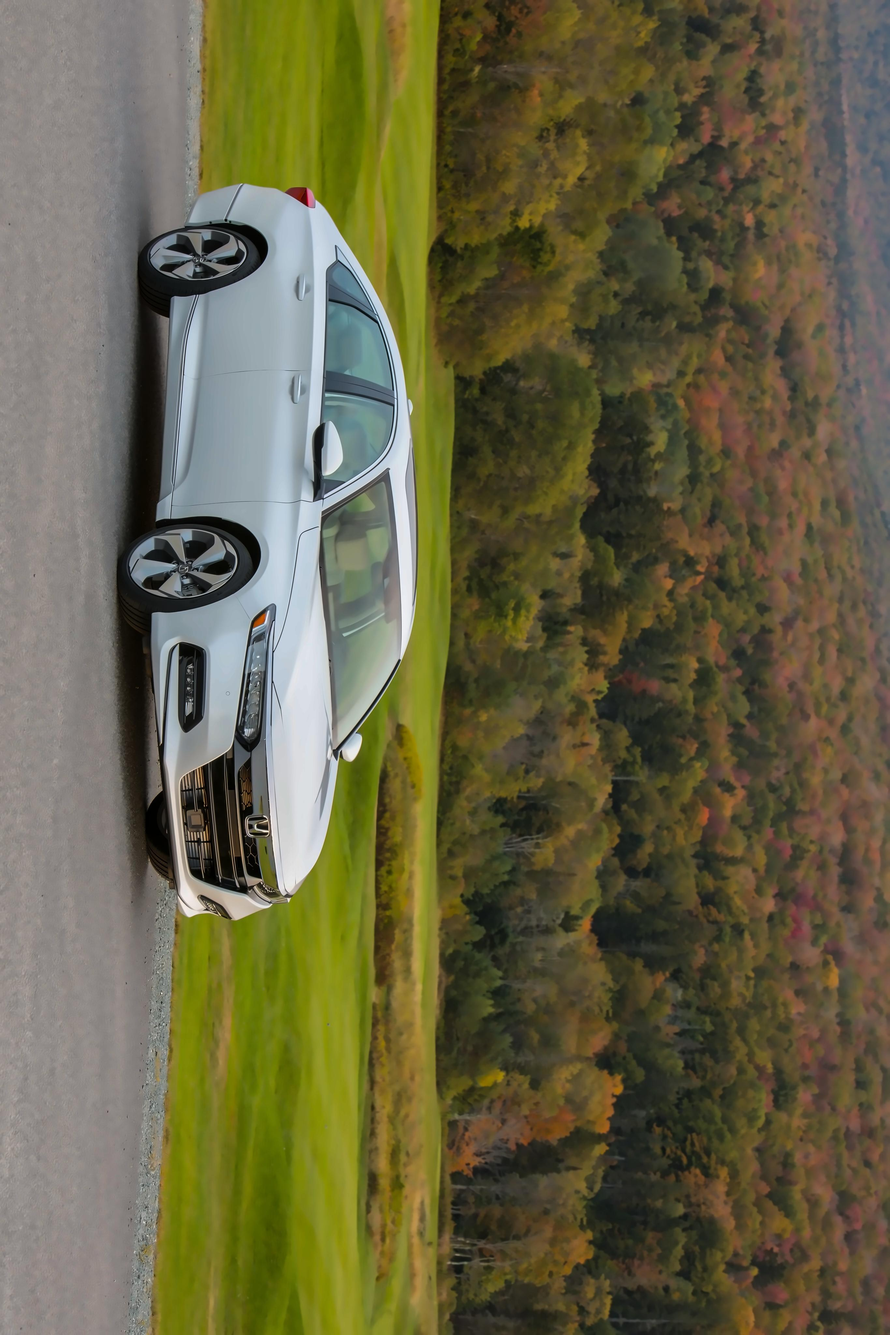Car hood: (265, 523, 340, 902)
Driver-s door - -F-R-: (144, 358, 414, 516)
Fender - -F-R-: (153, 498, 328, 641)
Fender - -R-R-: (223, 179, 357, 264)
Front bumper: (137, 595, 289, 926)
Headlight - -L-: (252, 878, 290, 904)
Headlight - -R-: (236, 605, 279, 754)
Passenger-s door - -R-R-: (169, 252, 421, 394)
Rear bumper: (181, 176, 249, 223)
Rear light - -R-: (285, 185, 316, 210)
Side bumper - -R-: (149, 281, 209, 519)
Side mirror - -L-: (338, 728, 363, 765)
Side mirror - -R-: (309, 421, 346, 501)
